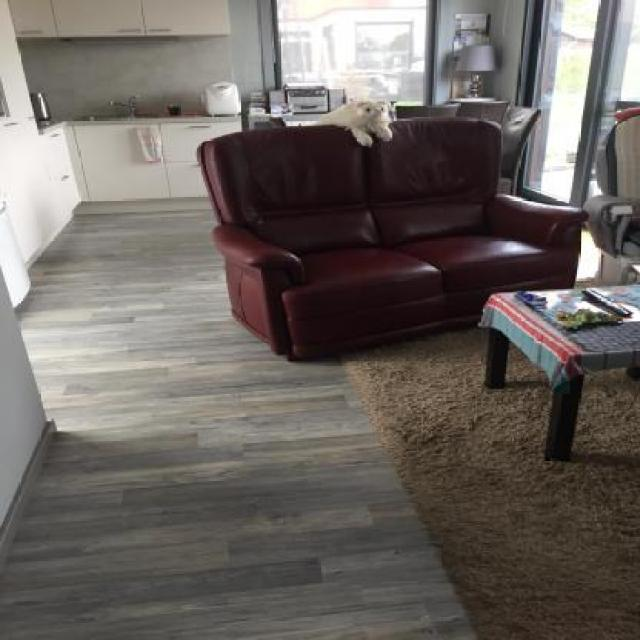Floor: (0, 210, 479, 640), (576, 222, 600, 282)
